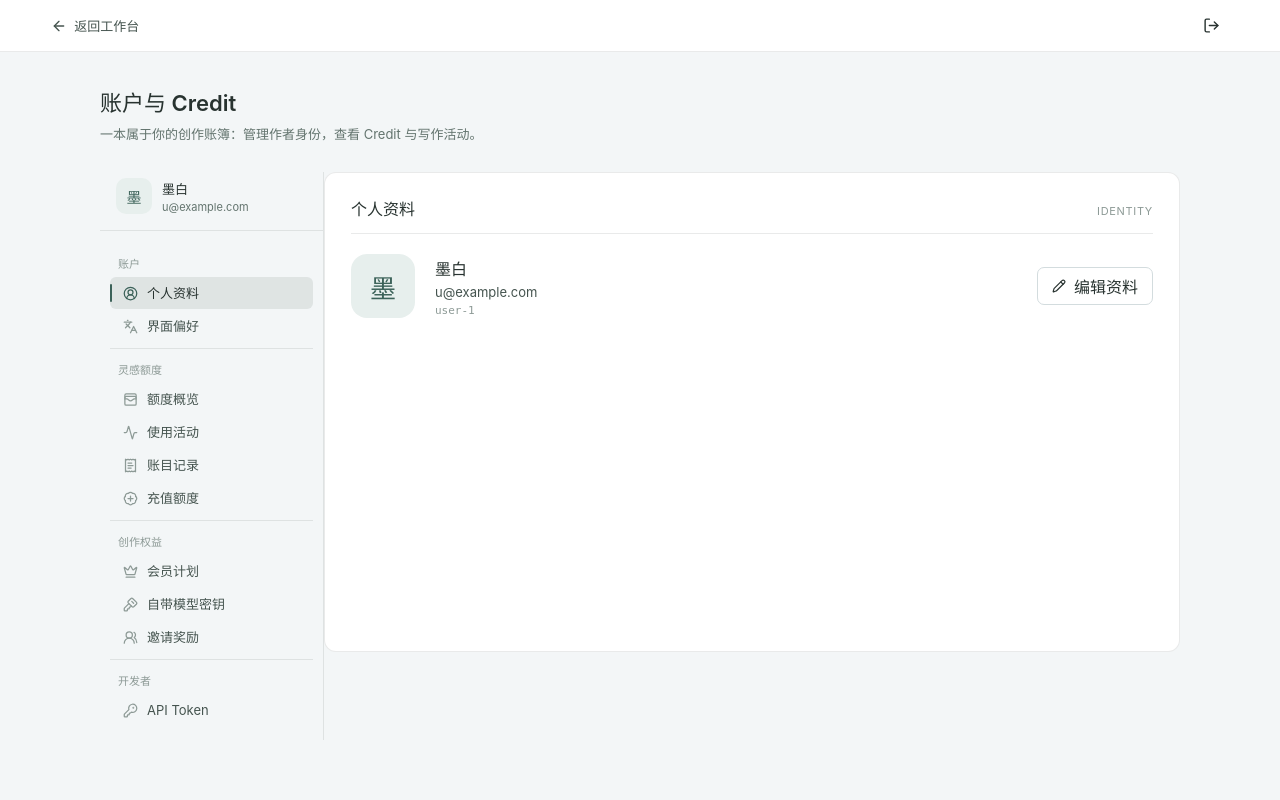
it: App › opens the Profile dashboard with a section index
Check: the heading "账户与 Credit" is shown, box [100,90,236,116]
Check: the element named "作者身份" is shown, box [100,172,324,740]
Click the button "界面偏好".
click(212, 326)  # box [110,310,313,342]
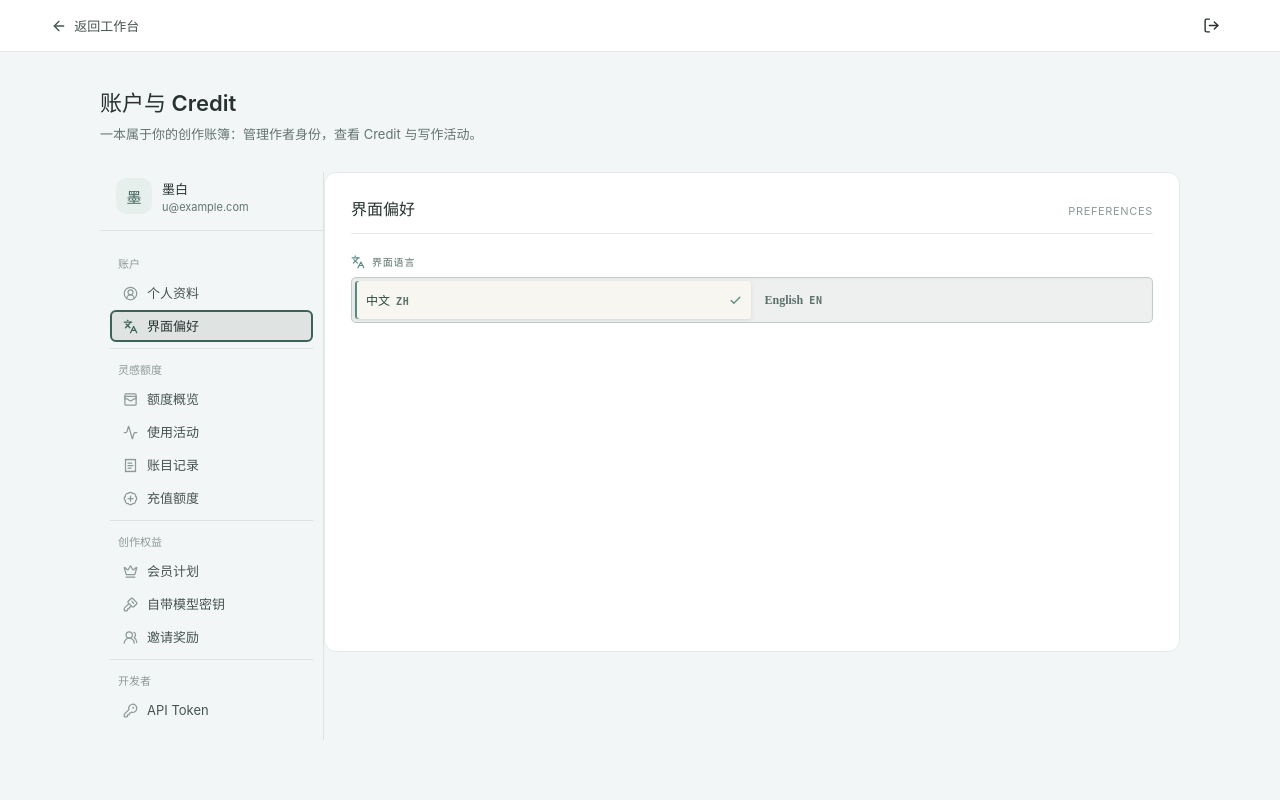
Check: the element "界面偏好" is shown, box [324,172,1180,652]
Check: the element "界面语言" is shown, box [351,254,1153,323]
Check: the headings read "界面偏好", in this order, box [351,197,415,221]
